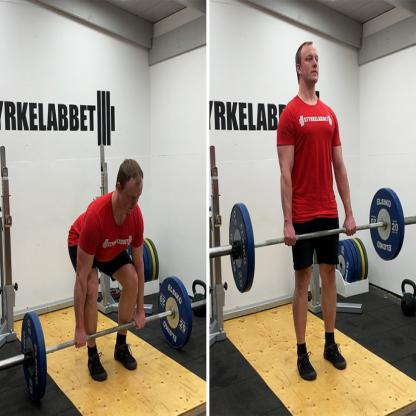Barbell: (15, 307, 53, 404), (367, 181, 406, 264), (225, 198, 258, 296), (156, 270, 195, 352)
